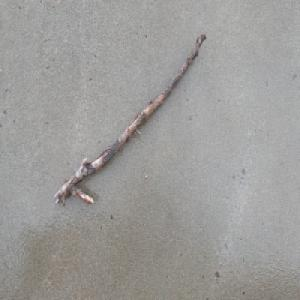Wood: (52, 31, 208, 206)
